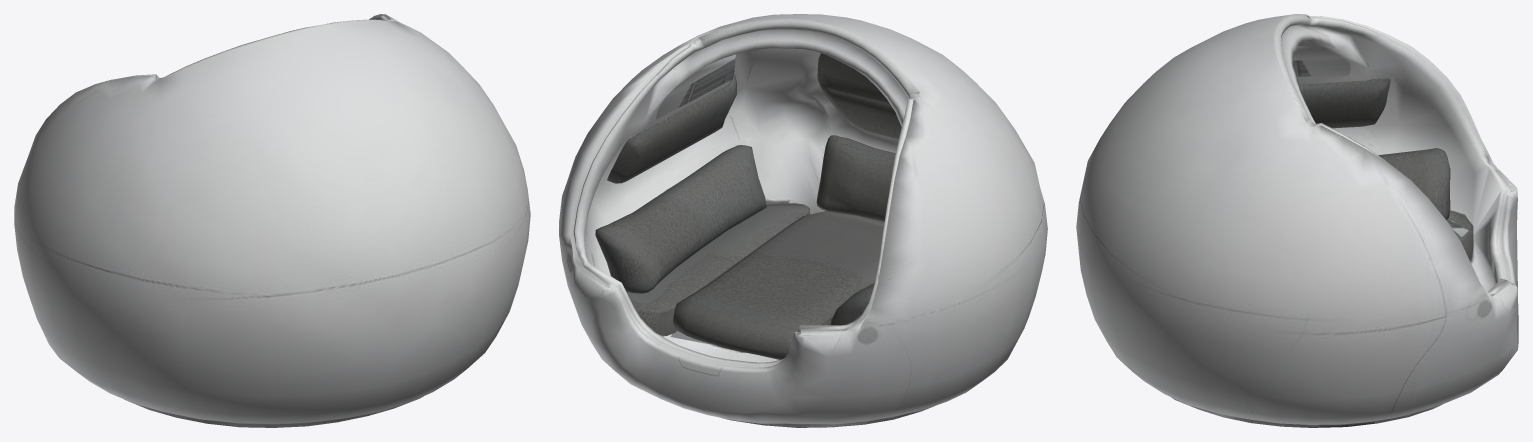
The model's file is office-nap-pod.glb.
3 renders of one model, left to right at view 1: azimuth 30°, elevation 25°; view 2: azimuth 150°, elevation 25°; view 3: azimuth 270°, elevation 25°, orthographic. The views are drawn at different scales.
Parts seen in each view (by area): view 1: nap-pod; view 2: nap-pod; view 3: nap-pod.
Part boxes in pixels (left/top/right/bottom): nap-pod: left=14, top=14, right=530, bottom=427; nap-pod: left=559, top=14, right=1047, bottom=427; nap-pod: left=1076, top=14, right=1518, bottom=427.
Bounding box in the file's own units: 1.8 × 1.27 × 1.63.
1 material, 1 textured.
